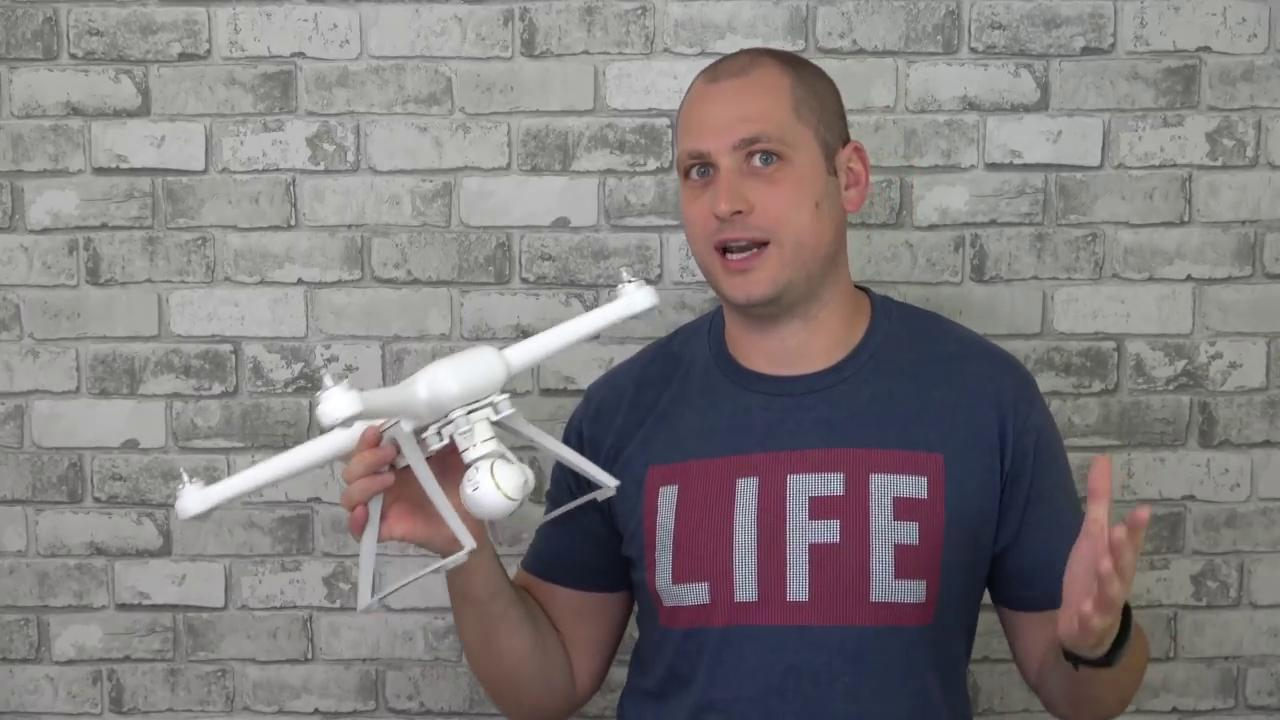drone: (93, 237, 711, 677)
